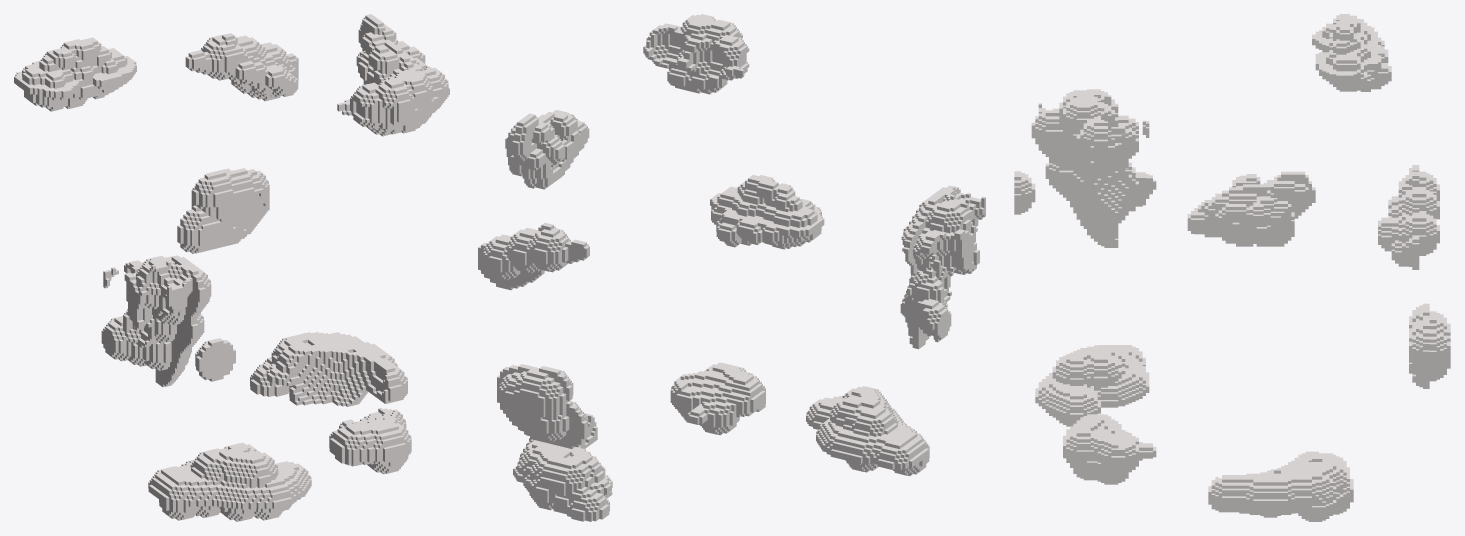
The model's file is cloud.obj.
3 views of the same model, side by side, from view 1: azimuth 30°, elevation 25°; view 2: azimuth 150°, elevation 25°; view 3: azimuth 270°, elevation 25° (orthographic).
Bounding box in the file's own units: 123 × 126 × 126.
1 material, 1 textured.
